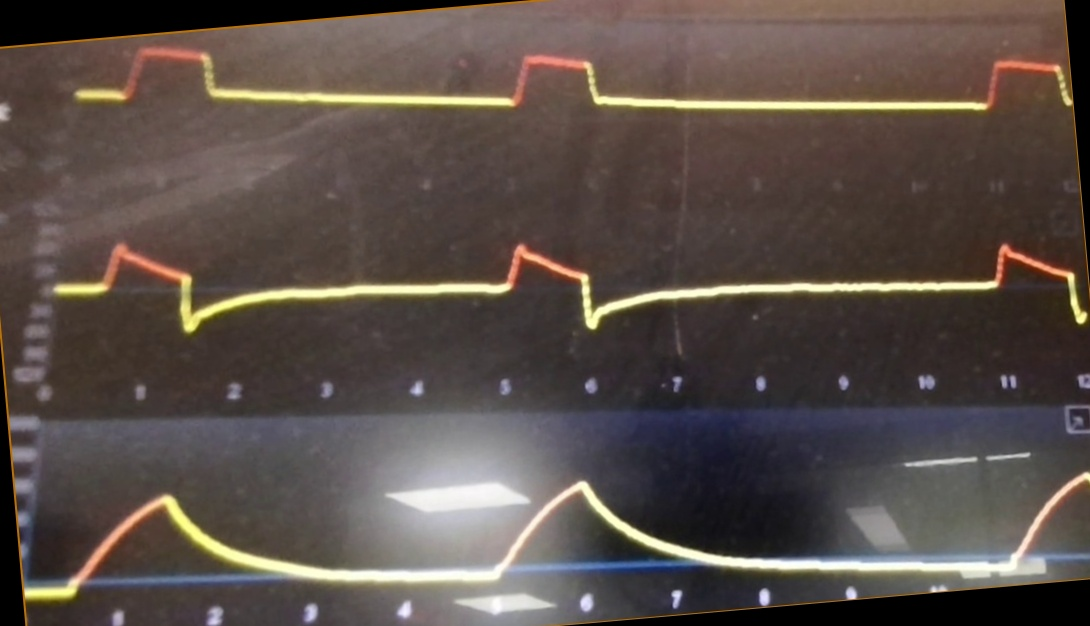Normal Flow: (52, 212, 1090, 351)
Normal Volume: (27, 466, 1090, 605)
